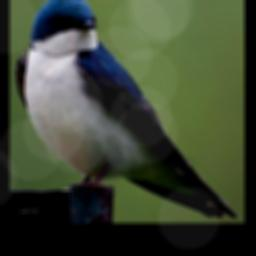Swallow: (15, 0, 239, 221)
